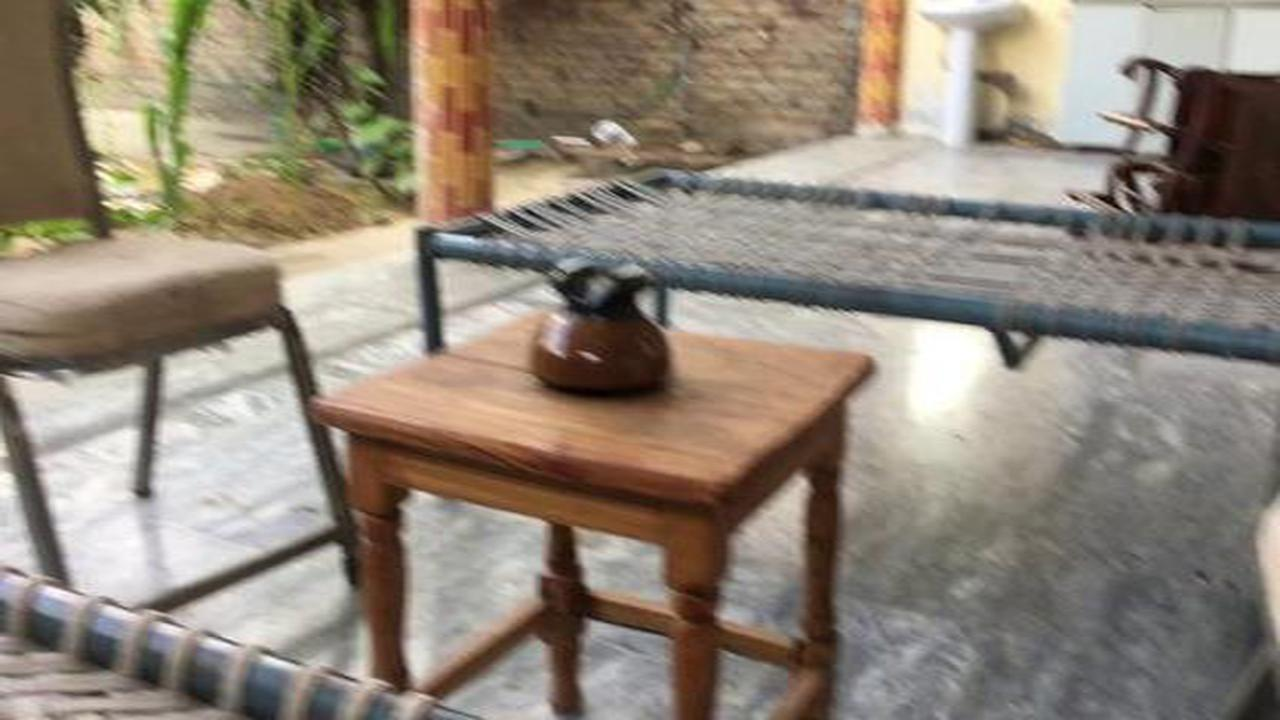insulator_pin: (521, 243, 684, 406)
